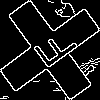F: (25, 25, 80, 77)
